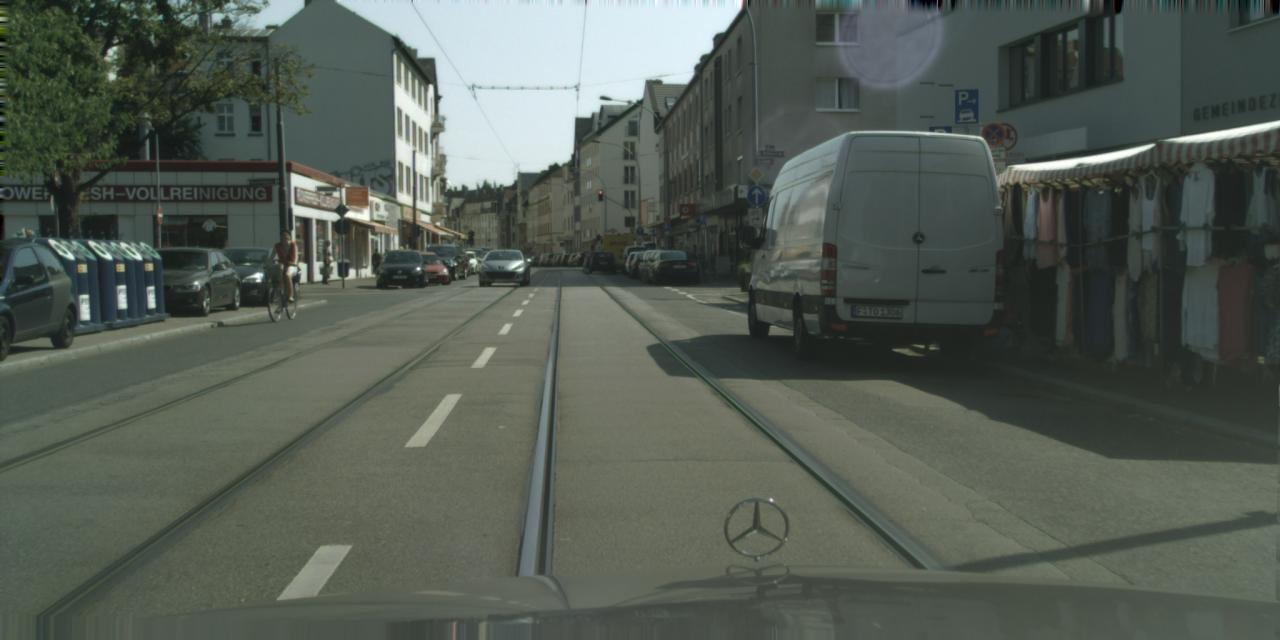ped: (270, 230, 300, 306), (317, 240, 334, 284), (694, 245, 708, 278), (370, 248, 382, 278), (689, 244, 699, 268), (584, 252, 594, 273)
